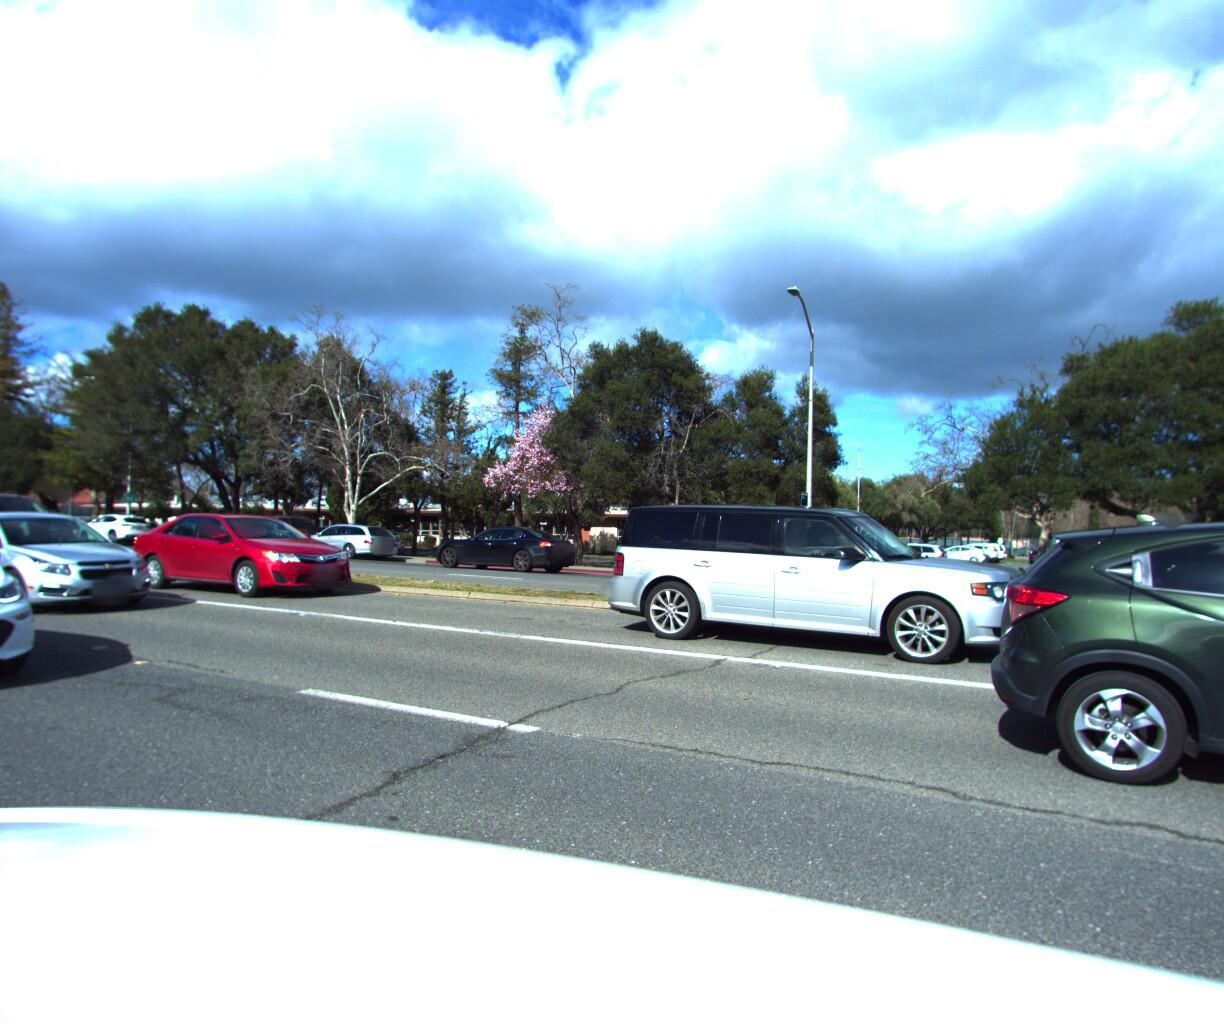car: (964, 515, 1224, 987), (602, 507, 1052, 692), (122, 516, 365, 611), (0, 515, 175, 630), (0, 489, 64, 742), (0, 497, 99, 588), (288, 527, 404, 571), (219, 519, 324, 565), (74, 518, 161, 557)
